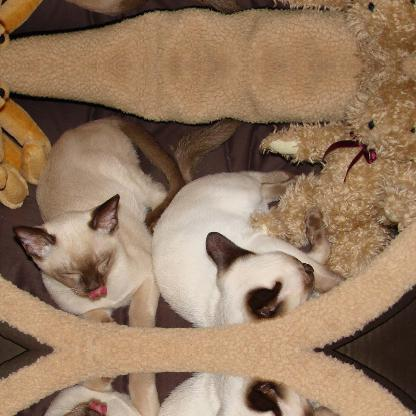Cat: (150, 118, 346, 324), (10, 115, 184, 327), (10, 372, 185, 415)
